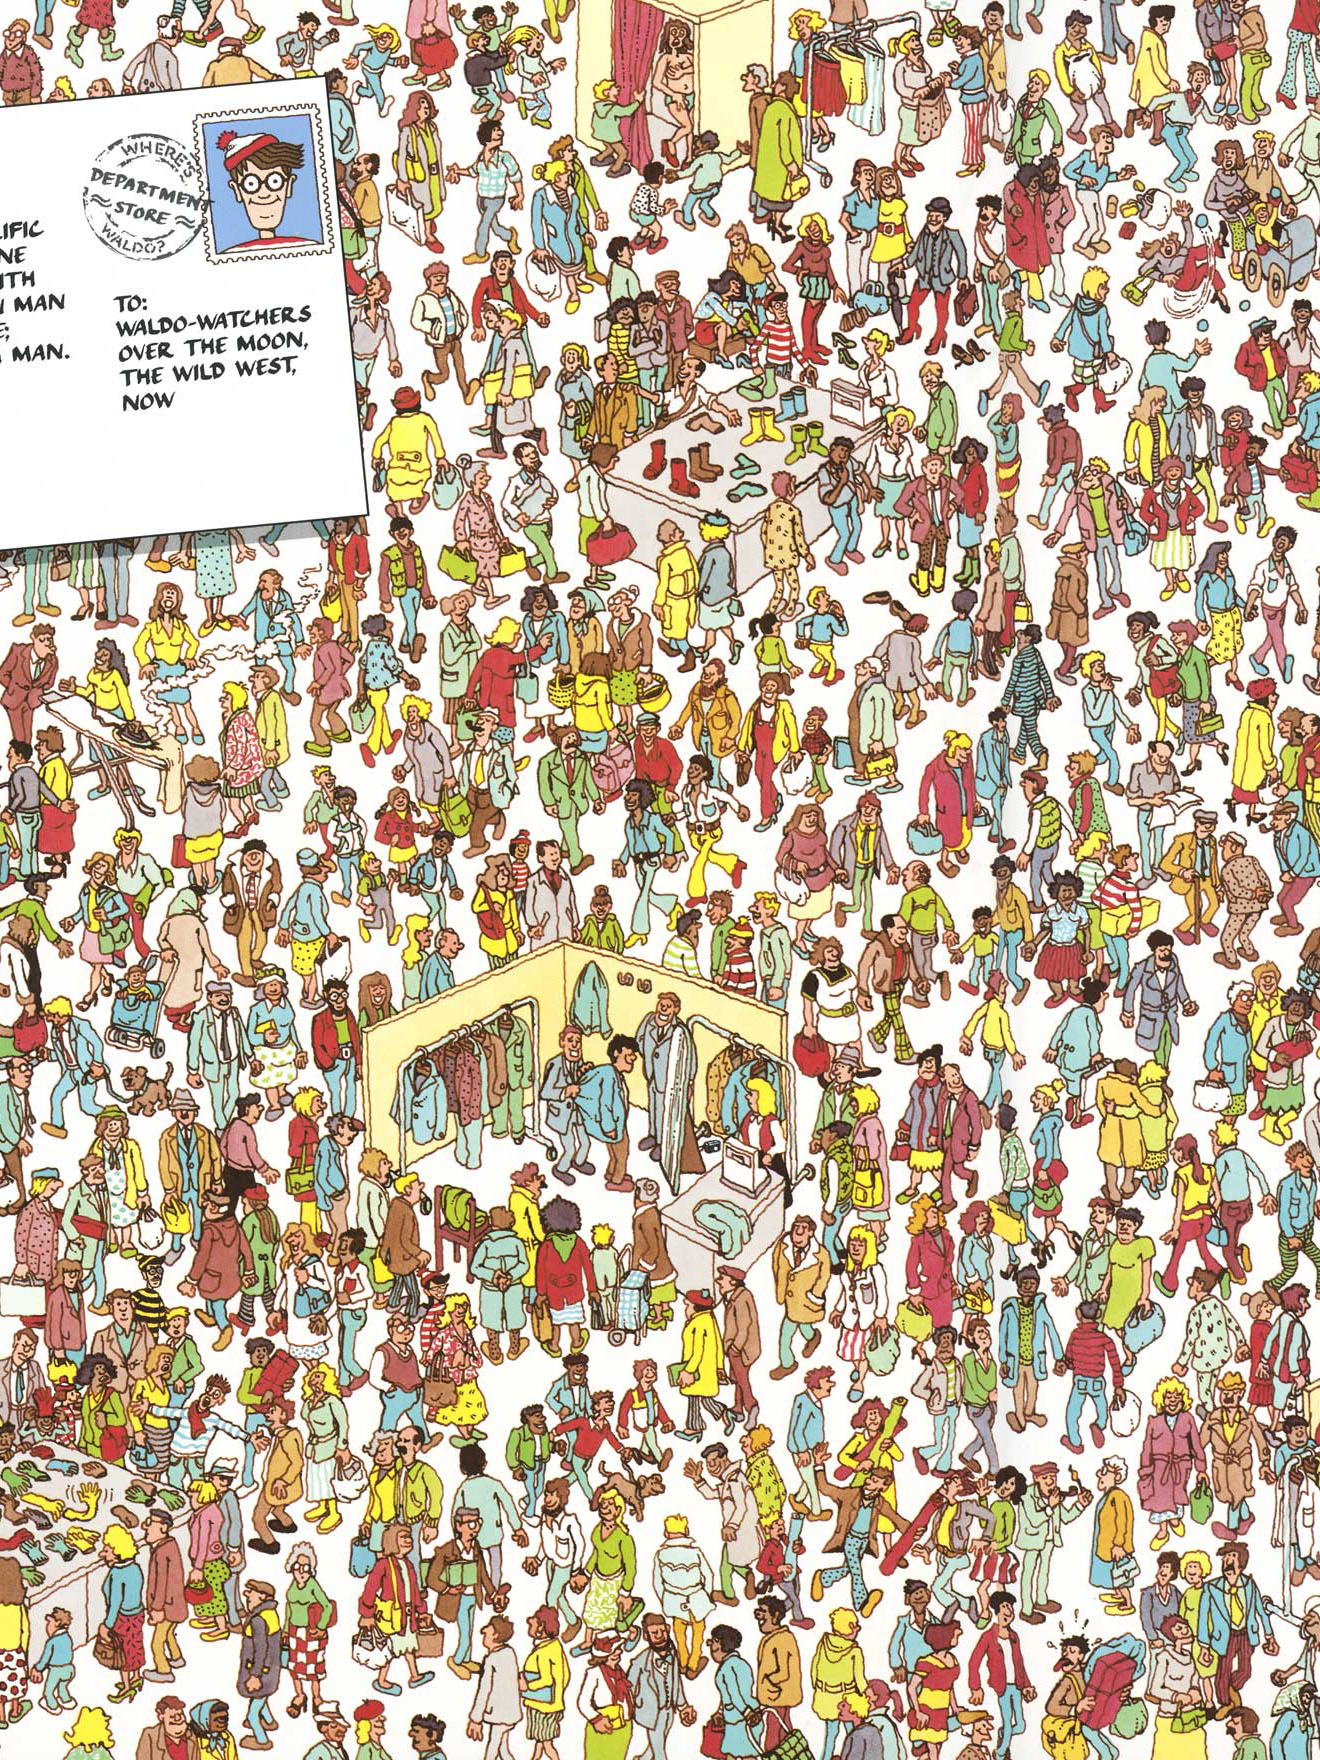waldo: (218, 125, 301, 236), (765, 287, 790, 324)
